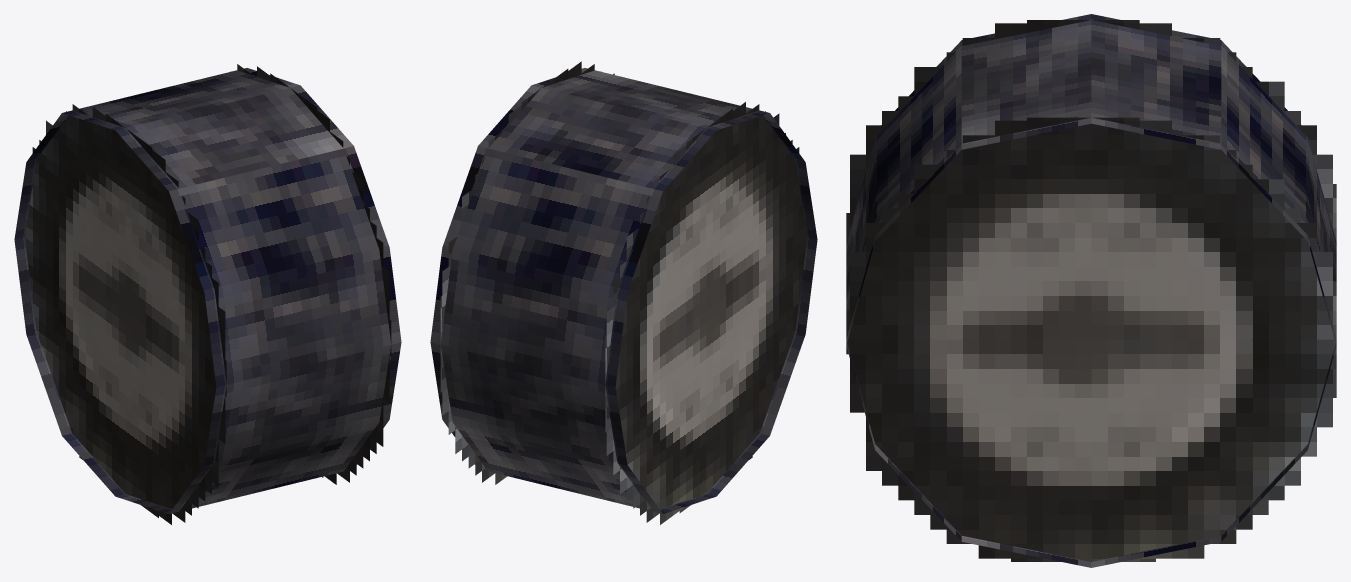
File: wheel.obj
3 views of the same model, side by side, from view 1: azimuth 30°, elevation 25°; view 2: azimuth 150°, elevation 25°; view 3: azimuth 270°, elevation 25° (orthographic). The views are drawn at different scales.
Parts seen in each view (by area): view 1: body12_wheel0.002; view 2: body12_wheel0.002; view 3: body12_wheel0.002.
Boxes of the visible parts, x1,y1,x2,y2 form: body12_wheel0.002: [14, 64, 401, 524]; body12_wheel0.002: [430, 61, 817, 524]; body12_wheel0.002: [846, 14, 1336, 567].
Size of the model in its own units: 18 by 34 by 34.
3 materials, 3 textured.
